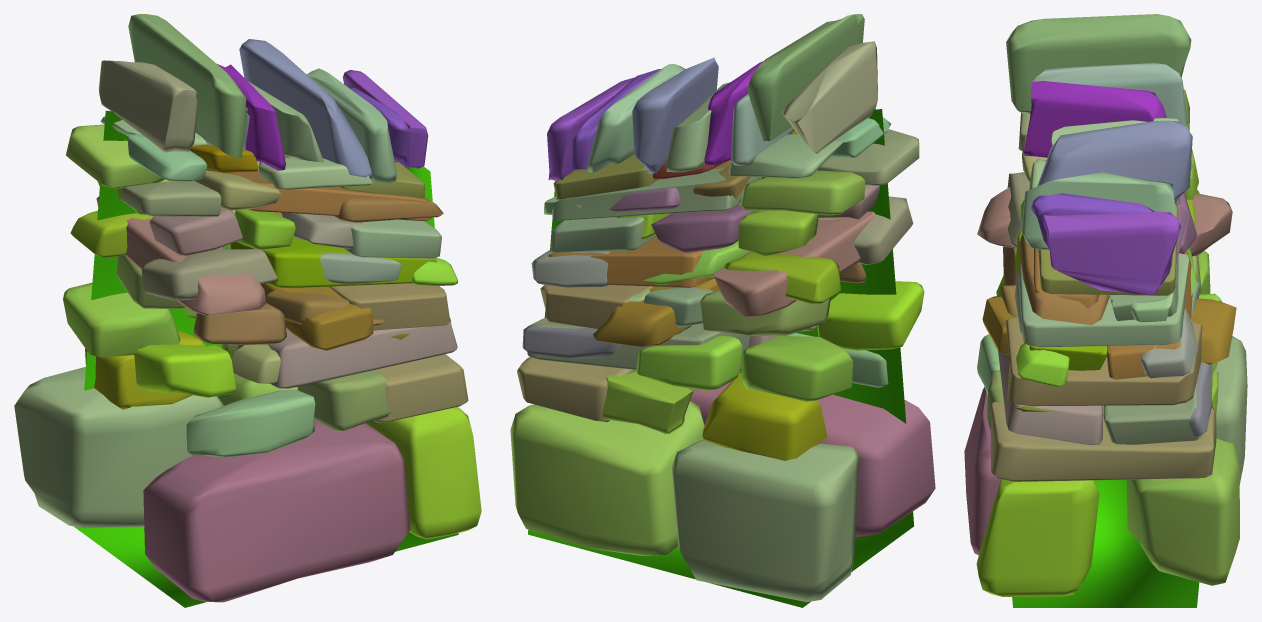
File: SM_Prop_wall_end_2.glb
The picture shows the model from 3 angles, left to right: view 1: azimuth 30°, elevation 25°; view 2: azimuth 150°, elevation 25°; view 3: azimuth 270°, elevation 25°; orthographic projection. The views are drawn at different scales.
Parts seen in each view (by area): view 1: SM_Prop_wall_end_2; view 2: SM_Prop_wall_end_2; view 3: SM_Prop_wall_end_2.
Boxes of the visible parts, x1,y1,x2,y2 form: SM_Prop_wall_end_2: (14, 14, 481, 607); SM_Prop_wall_end_2: (510, 14, 935, 607); SM_Prop_wall_end_2: (964, 14, 1247, 607).
Bounding box in the file's own units: 1.15 × 1.7 × 0.8977.
